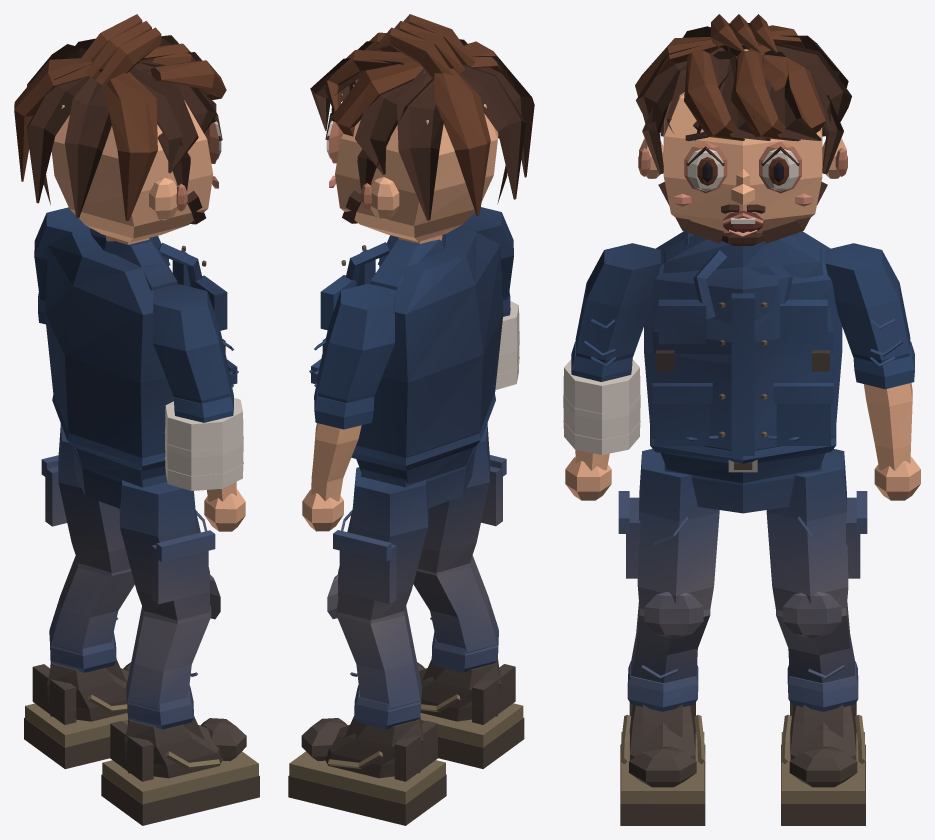
3 views of the same model, side by side, from view 1: azimuth 30°, elevation 25°; view 2: azimuth 150°, elevation 25°; view 3: azimuth 270°, elevation 25° (orthographic). The views are drawn at different scales.
Parts seen in each view (by area): view 1: torso_pal_picketWhite, head_pal_picketWhite, footR_pal_picketWhite, legR_pal_picketWhite, head_pal_skinWarm, footL_pal_picketWhite, shinR_pal_picketWhite, armR_pal_picketWhite, foreArmR_pal_picketWhite, shinL_pal_picketWhite, legL_pal_picketWhite, armL_pal_picketWhite (+2 smaller); view 2: torso_pal_picketWhite, head_pal_picketWhite, footL_pal_picketWhite, legL_pal_picketWhite, head_pal_skinWarm, footR_pal_picketWhite, shinL_pal_picketWhite, armL_pal_picketWhite, shinR_pal_picketWhite, legR_pal_picketWhite, foreArmL_pal_skinWarm, hip_pal_picketWhite (+4 smaller); view 3: torso_pal_picketWhite, head_pal_picketWhite, head_pal_skinWarm, legL_pal_picketWhite, legR_pal_picketWhite, footR_pal_picketWhite, footL_pal_picketWhite, shinR_pal_picketWhite, shinL_pal_picketWhite, armR_pal_picketWhite, armL_pal_picketWhite, foreArmR_pal_picketWhite (+6 smaller).
Part boxes in pixels (x1,y1,x2,y2): torso_pal_picketWhite: (45,228,237,484); head_pal_picketWhite: (14,14,226,224); footR_pal_picketWhite: (101,716,259,825); legR_pal_picketWhite: (119,480,215,620); head_pal_skinWarm: (51,100,218,244); footL_pal_picketWhite: (24,660,130,769); shinR_pal_picketWhite: (126,574,220,729); armR_pal_picketWhite: (153,284,238,403); foreArmR_pal_picketWhite: (164,383,243,490); shinL_pal_picketWhite: (49,556,134,672); legL_pal_picketWhite: (41,423,130,573); armL_pal_picketWhite: (34,207,90,300); torso_pal_picketWhite: (311,227,503,484); head_pal_picketWhite: (310,14,534,223); footL_pal_picketWhite: (288,716,446,825); legL_pal_picketWhite: (333,467,428,620); head_pal_skinWarm: (329,104,498,243); footR_pal_picketWhite: (417,659,524,768); shinL_pal_picketWhite: (327,574,421,729); armL_pal_picketWhite: (309,284,394,403); shinR_pal_picketWhite: (413,555,498,672); legR_pal_picketWhite: (417,423,506,572); foreArmL_pal_skinWarm: (311,423,361,501); hip_pal_picketWhite: (361,446,476,508); torso_pal_picketWhite: (644,231,842,483); head_pal_picketWhite: (635,14,851,245); head_pal_skinWarm: (638,49,847,236); legL_pal_picketWhite: (766,449,867,610); legR_pal_picketWhite: (618,449,719,611); footR_pal_picketWhite: (620,702,705,825); footL_pal_picketWhite: (781,702,865,825); shinR_pal_picketWhite: (627,592,710,711); shinL_pal_picketWhite: (776,592,858,711); armR_pal_picketWhite: (575,243,660,363); armL_pal_picketWhite: (825,243,910,363); foreArmR_pal_picketWhite: (563,341,640,454).
Bounding box in the file's own units: 0.3717 × 1.43 × 0.6018.
